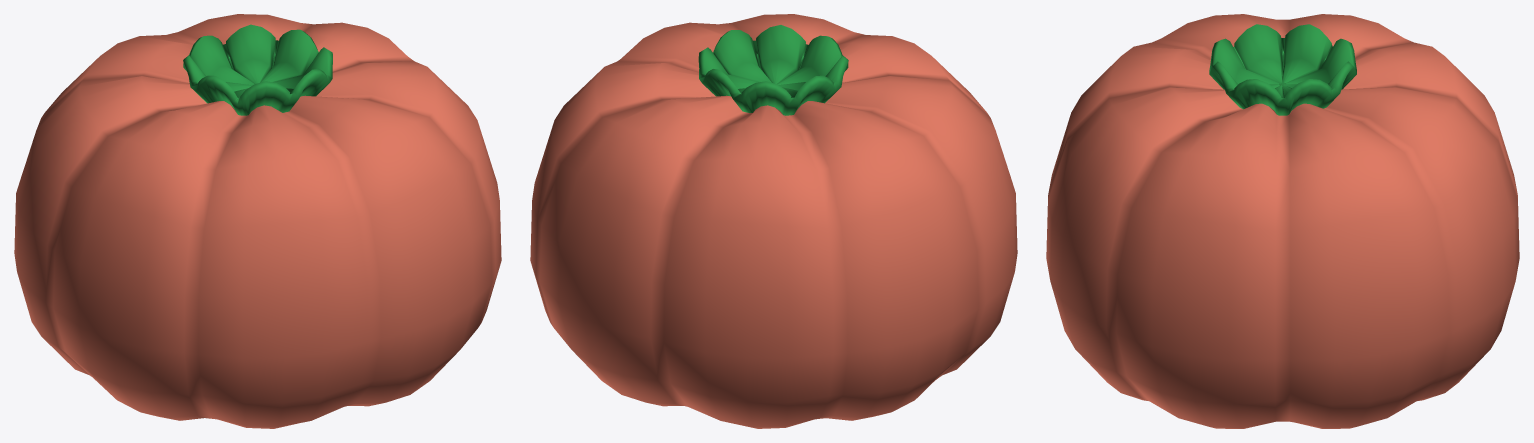
The model's file is TableDecor_03_CC.glb.
The picture shows the model from 3 angles, left to right: view 1: azimuth 30°, elevation 25°; view 2: azimuth 150°, elevation 25°; view 3: azimuth 270°, elevation 25°; orthographic projection.
Parts seen in each view (by area): view 1: TableDecor_03_CC; view 2: TableDecor_03_CC; view 3: TableDecor_03_CC.
Boxes of the visible parts, x1=… form: TableDecor_03_CC: x1=14, y1=14, x2=501, y2=428; TableDecor_03_CC: x1=530, y1=14, x2=1017, y2=428; TableDecor_03_CC: x1=1046, y1=14, x2=1519, y2=428.
Size of the model in its own units: 0.1243 by 0.0898 by 0.1206.
1 material, 1 textured.
